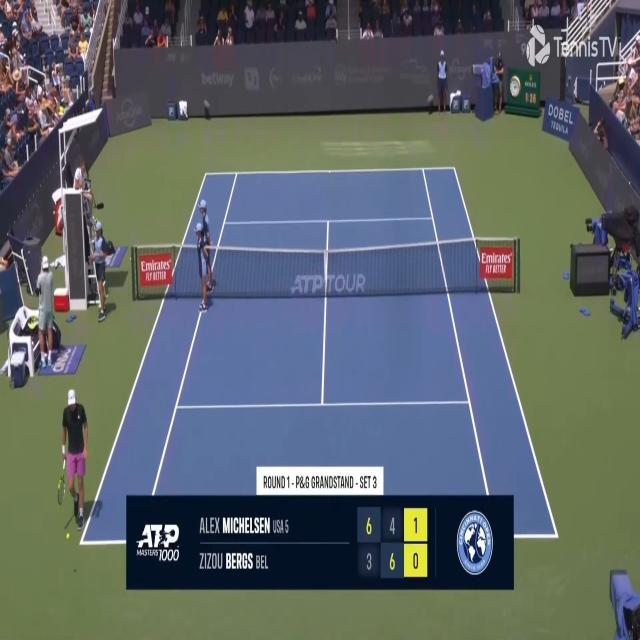tennis-player: (57, 382, 90, 546), (34, 251, 58, 373)
